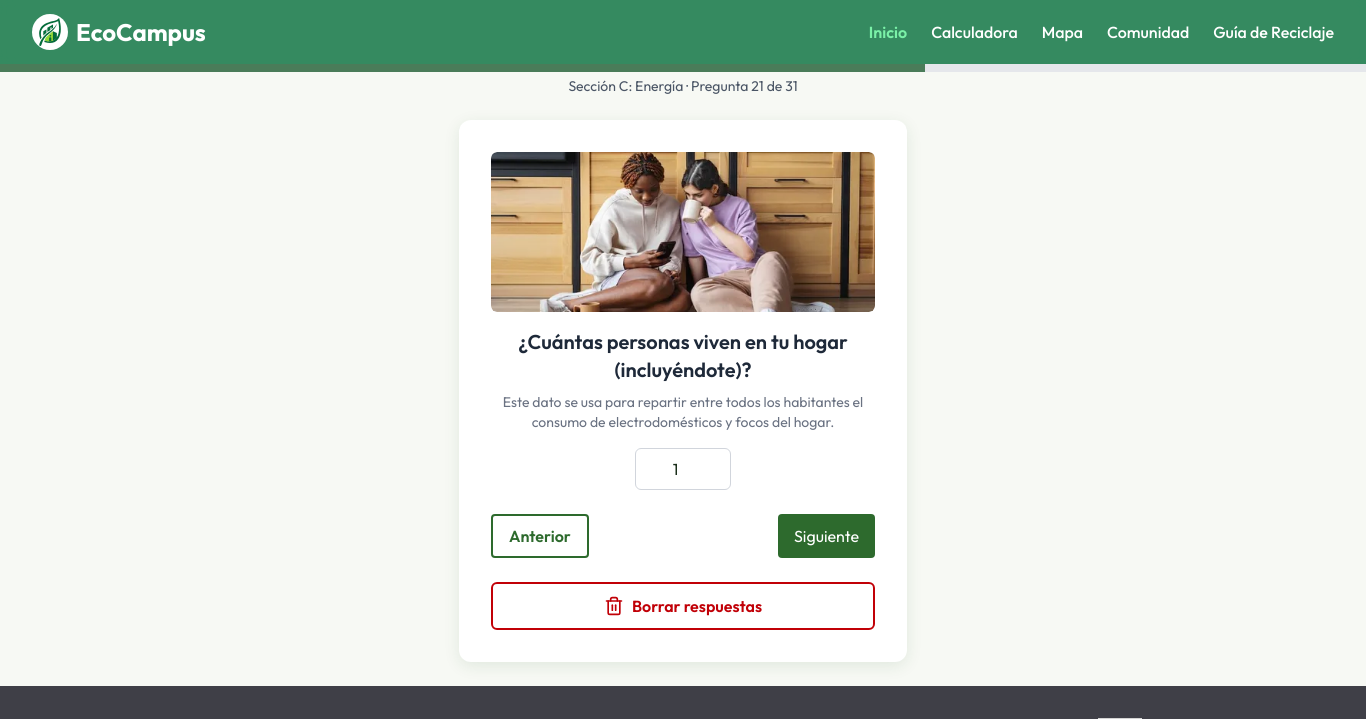
Scenario: Calculadora - paso habitantesHogar › al perder el foco con valor por debajo de 1 corrige a 1
The image size is (1366, 719).
Step 1. Replace the text in the number field with "0" → (683, 469), box top-left (635, 448), bottom-right (731, 490)
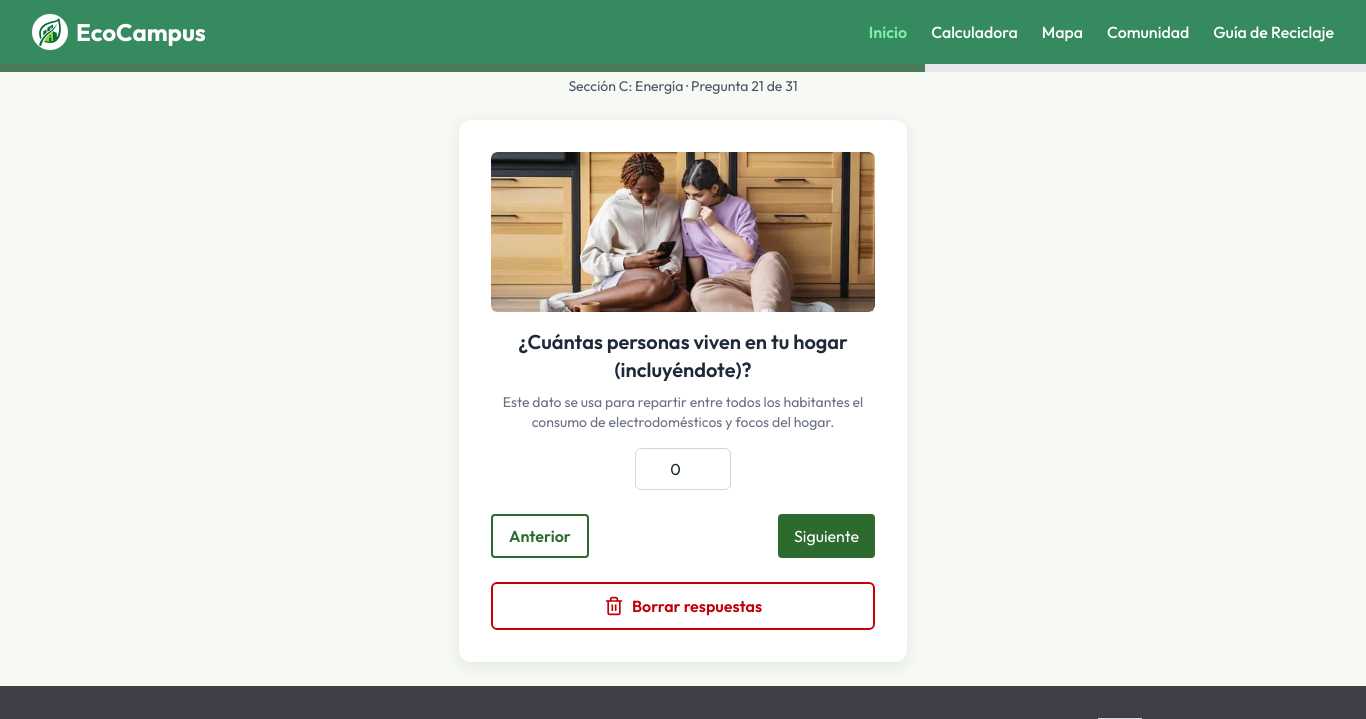
Step 2. Leave the number field, box top-left (635, 448), bottom-right (731, 490)
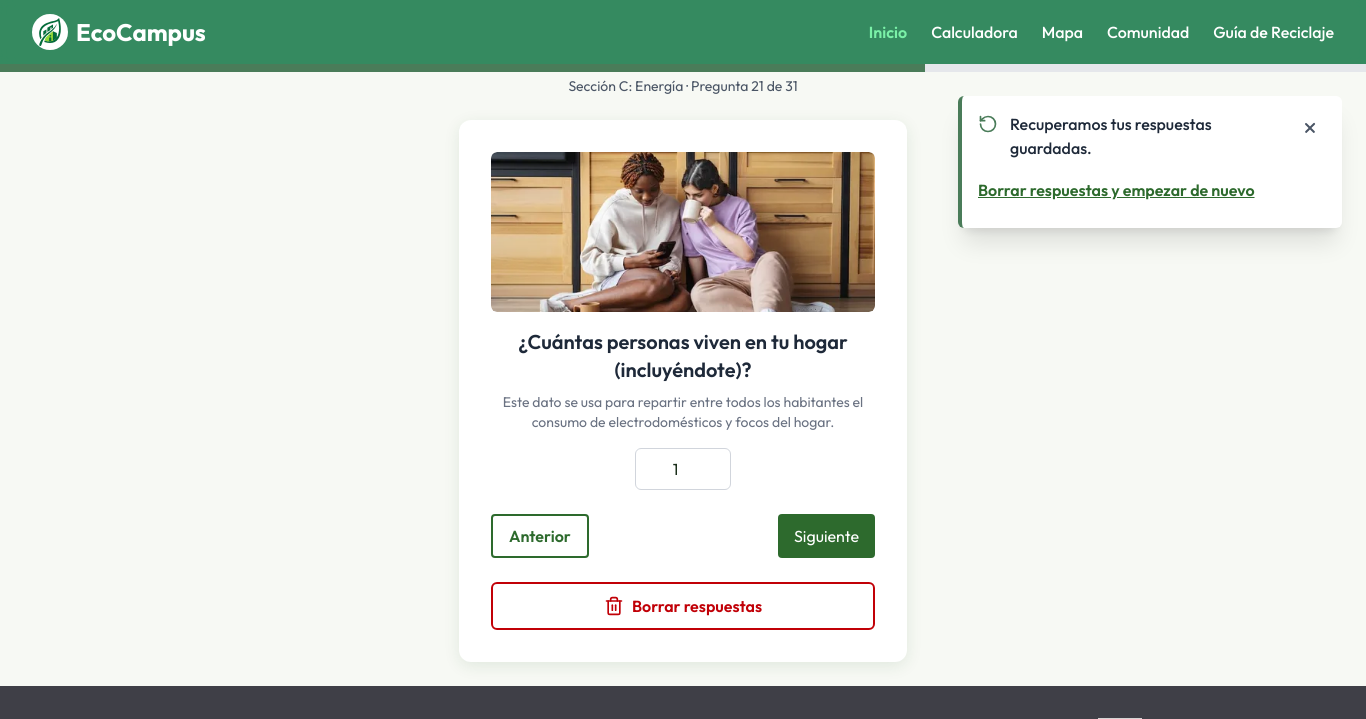
Check: the number field holds "1", box top-left (635, 448), bottom-right (731, 490)
